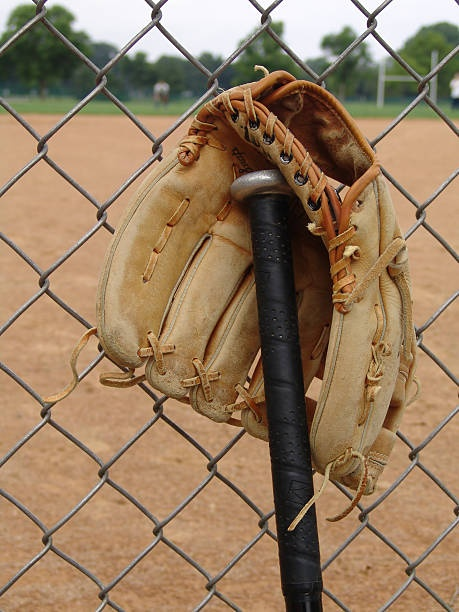bita: (229, 162, 330, 612)
